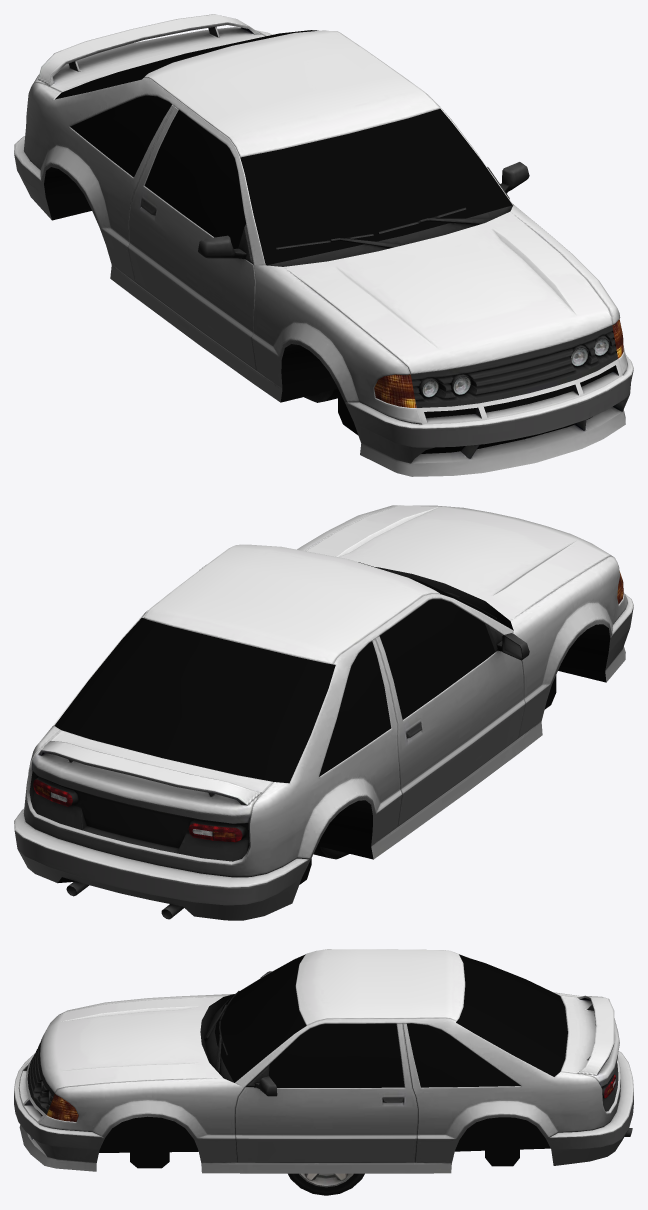
The model's file is gen-coupe.lod.glb.
3 views of the same model, one above another, from view 1: azimuth 30°, elevation 25°; view 2: azimuth 150°, elevation 25°; view 3: azimuth 270°, elevation 25° (orthographic). The views are drawn at different scales.
Parts seen in each view (by area): view 1: body; view 2: body; view 3: body, wheel.
Part boxes in pixels (left/top/right/bottom): body: left=14, top=14, right=633, bottom=476; body: left=14, top=505, right=633, bottom=920; body: left=14, top=949, right=633, bottom=1173; wheel: left=288, top=1173, right=364, bottom=1195.
Bounding box in the file's own units: 1.88 × 1.58 × 4.24.
Materials: 6 (5 with a texture image).
